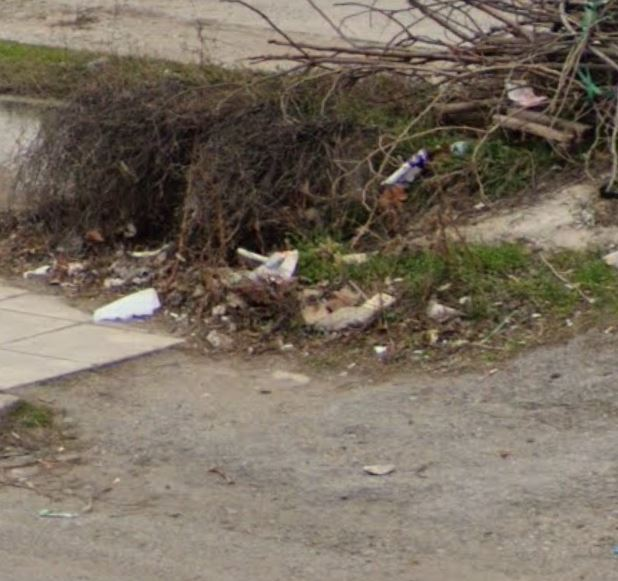trash: (272, 272, 393, 342), (236, 237, 305, 295), (80, 285, 176, 322), (375, 145, 438, 197), (493, 73, 539, 115), (426, 288, 459, 321), (449, 139, 477, 164)
